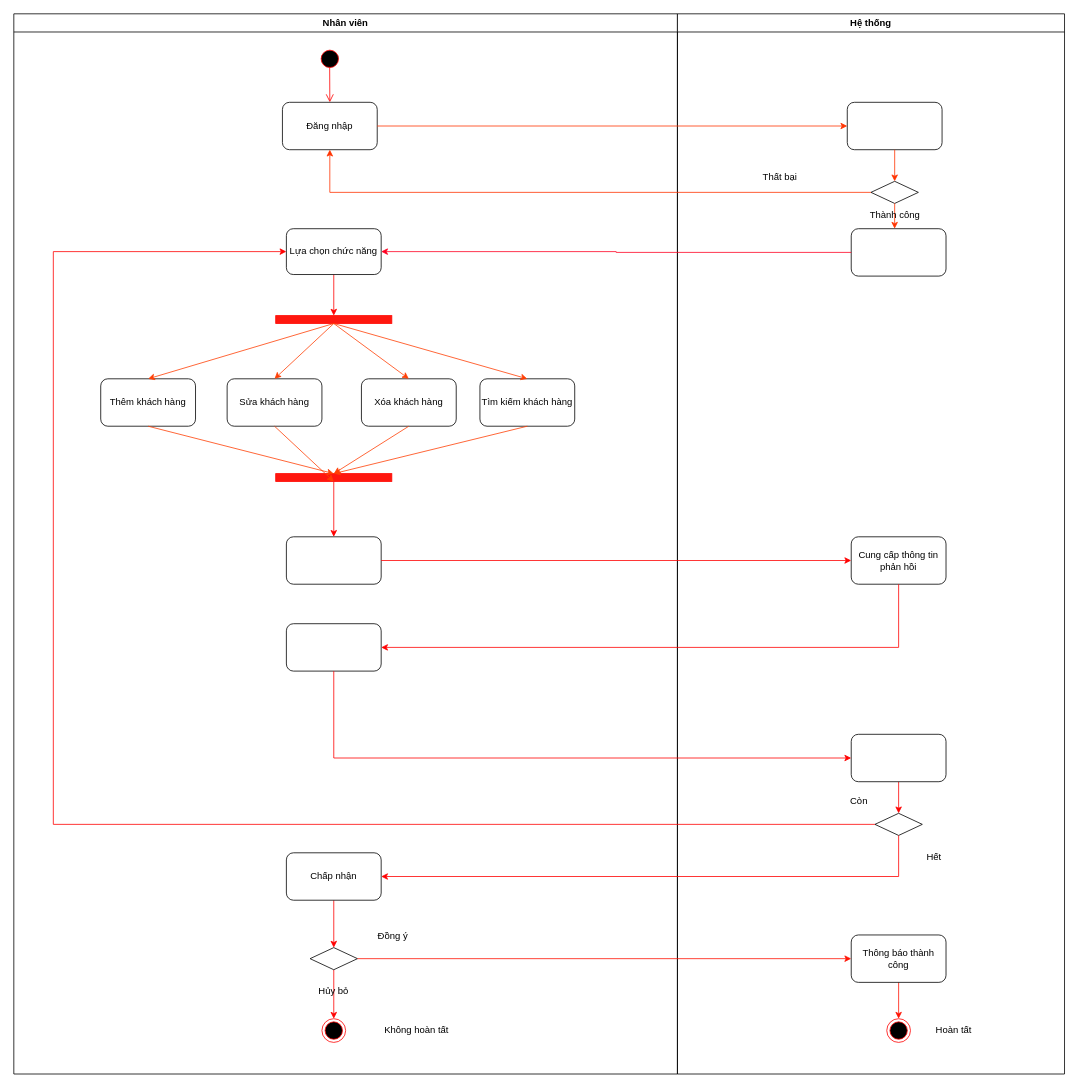
Some shapes in this 1078 by 1088 pixel diagram are drawn without their labels. The box of each missing label's shape, as (x1, y1, x2, y2) in pixels:
Hiển thị danh sách khách hàng: (850, 228, 946, 276)
Hiển thị danh sách khách hàng vừa cập nhật: (850, 734, 946, 782)
Kiểm tra mật khẩu: (846, 102, 942, 150)
Lưu thông tin: (286, 623, 381, 671)
Nhập thông tin khách hàng: (286, 536, 381, 584)
